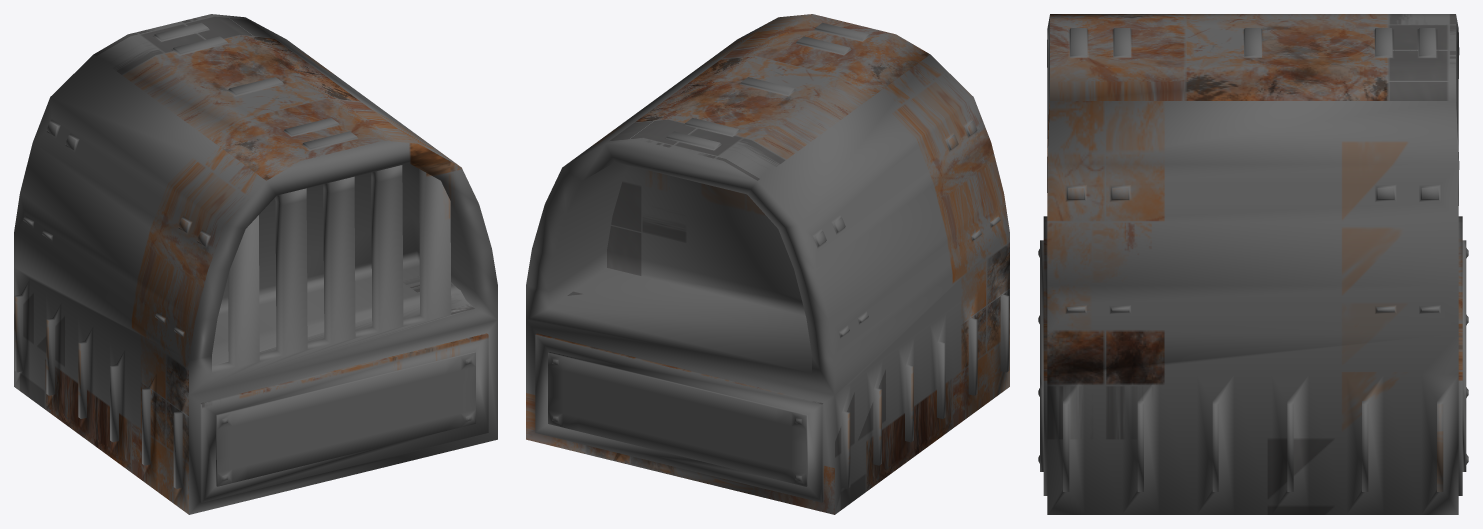
Rendered from Furnace.FBX.
3 views of the same model, side by side, from view 1: azimuth 30°, elevation 25°; view 2: azimuth 150°, elevation 25°; view 3: azimuth 270°, elevation 25° (orthographic). The views are drawn at different scales.
Parts seen in each view (by area): view 1: Box001; view 2: Box001; view 3: Box001.
Boxes of the visible parts, <box> form: Box001: <box>14,14,497,514</box>; Box001: <box>526,14,1009,514</box>; Box001: <box>1038,14,1468,514</box>.
Size of the model in its own units: 254 by 249 by 252.
